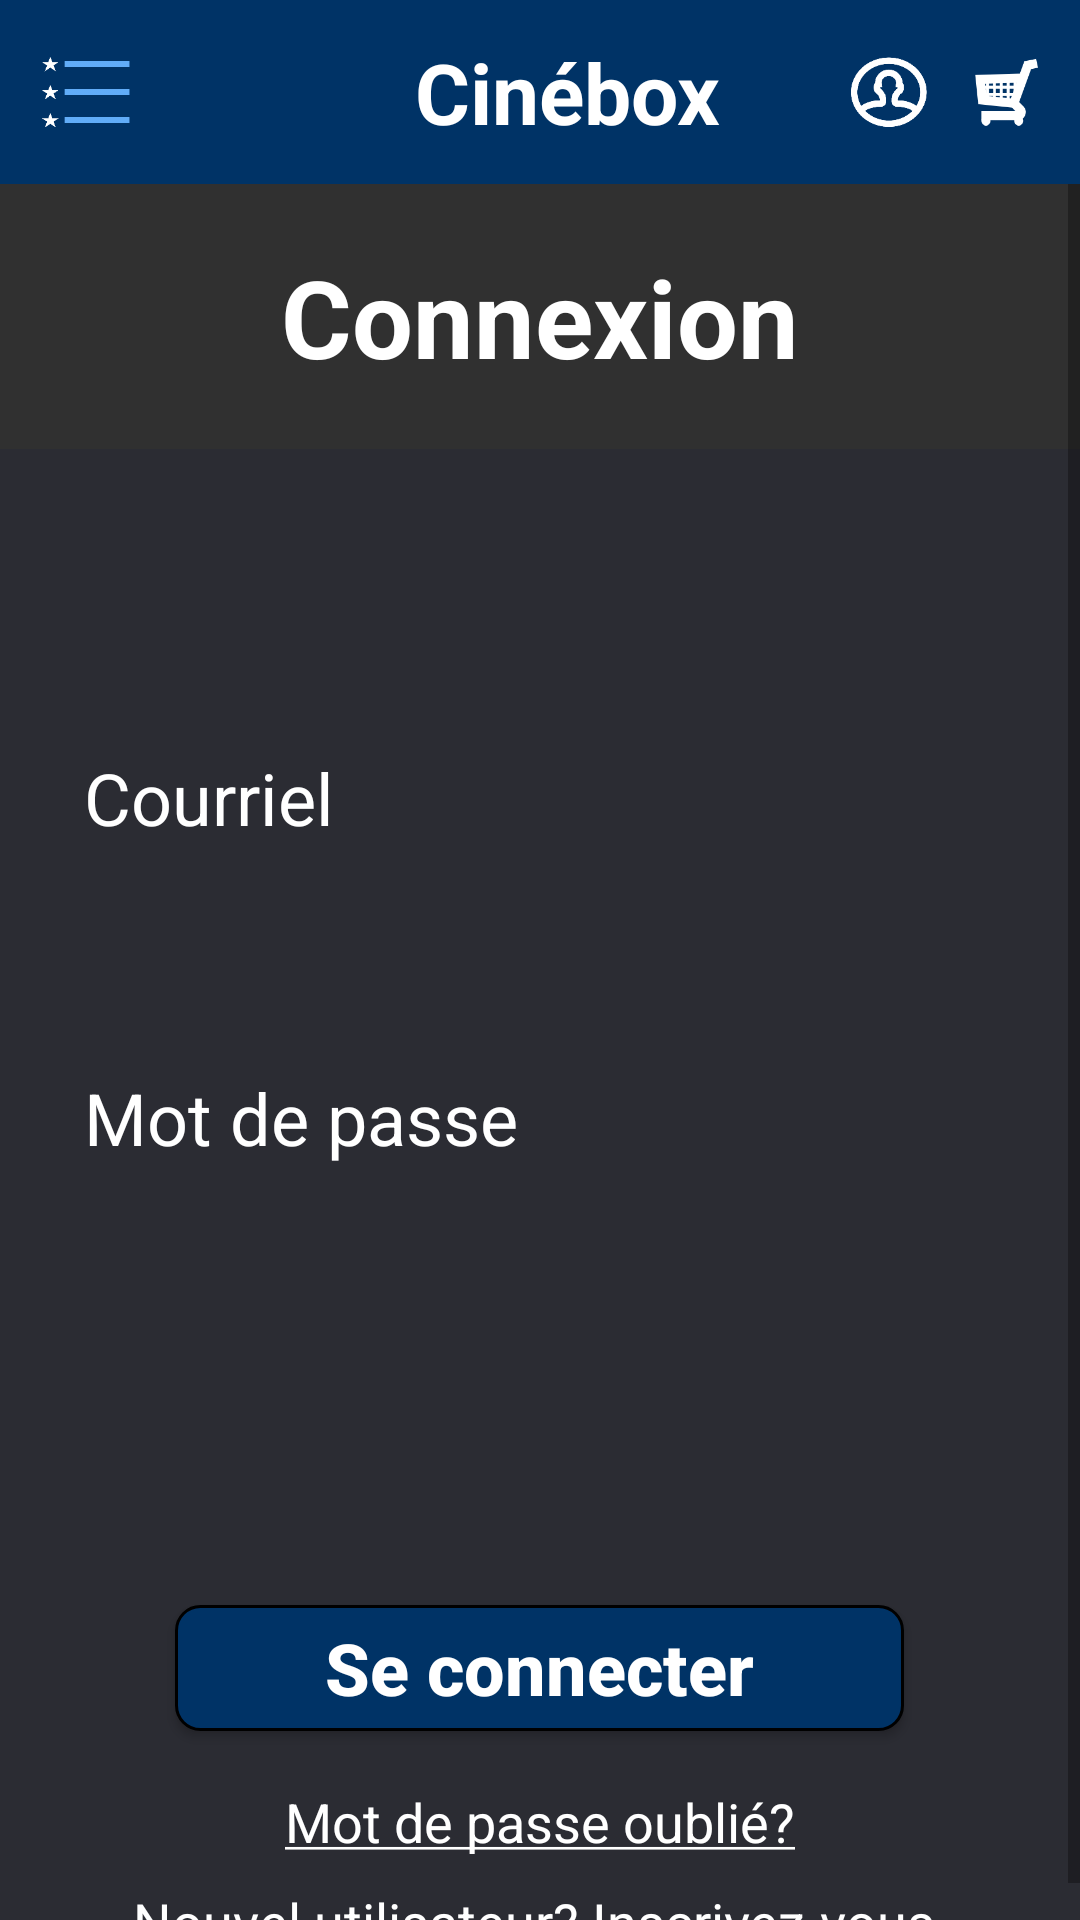

Where icons sit on this 1080px×1920px app screen, as (x1, y1, x2, y2):
cart: (975, 59, 1038, 126)
list: (42, 57, 130, 127)
profil: (851, 57, 927, 127)
